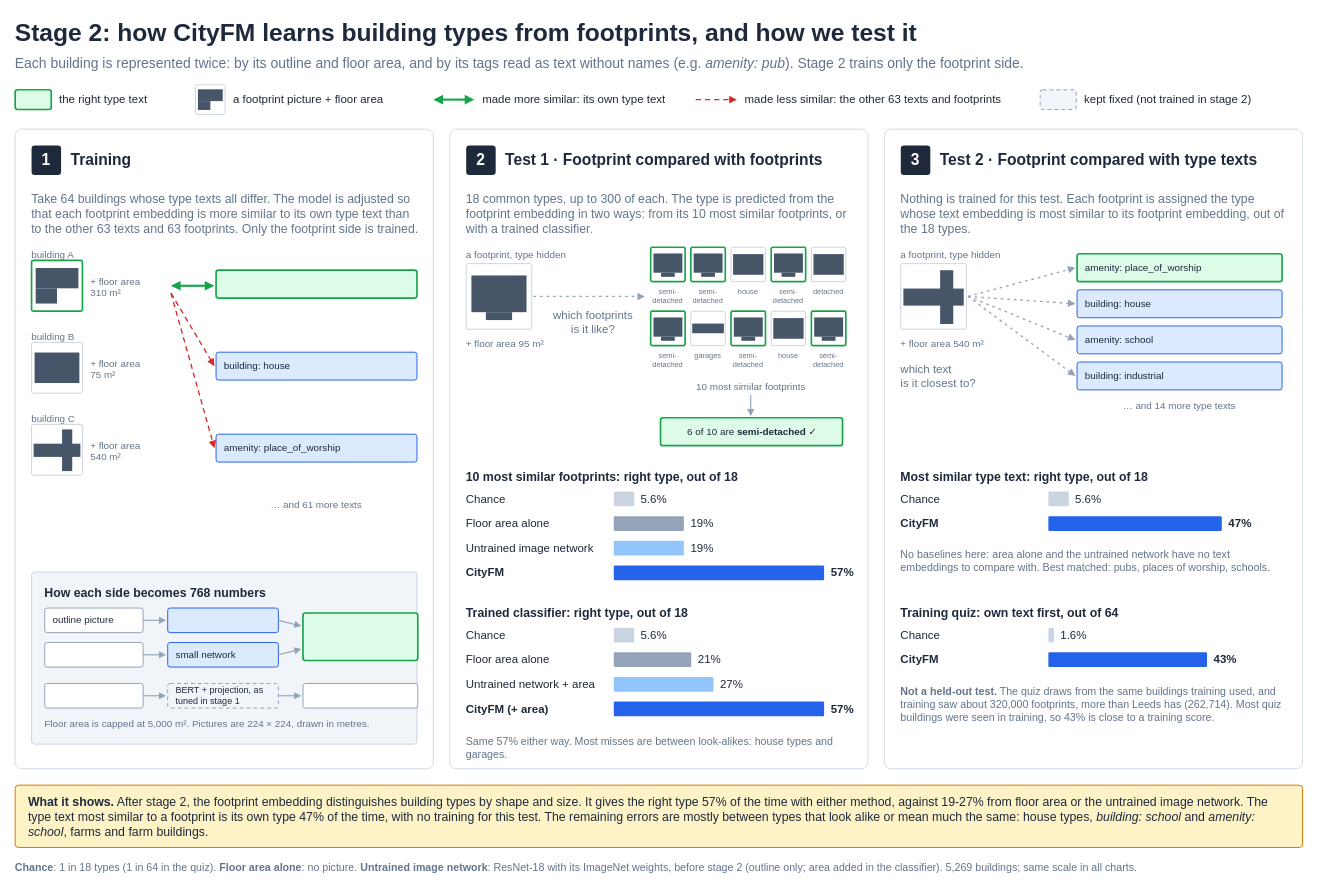
Some shapes in this 1319 by 888 pixel diagram are drawn without their labels. Here are the shapes that lost their labels. From the top down, the centre of each, then its label:
pixel 316 283: amenity: pub
pixel 222 620: ResNet-18 (starts from ImageNet)
pixel 360 636: average = footprint embedding
pixel 93 654: floor area
pixel 93 695: type text
pixel 360 695: text embedding
